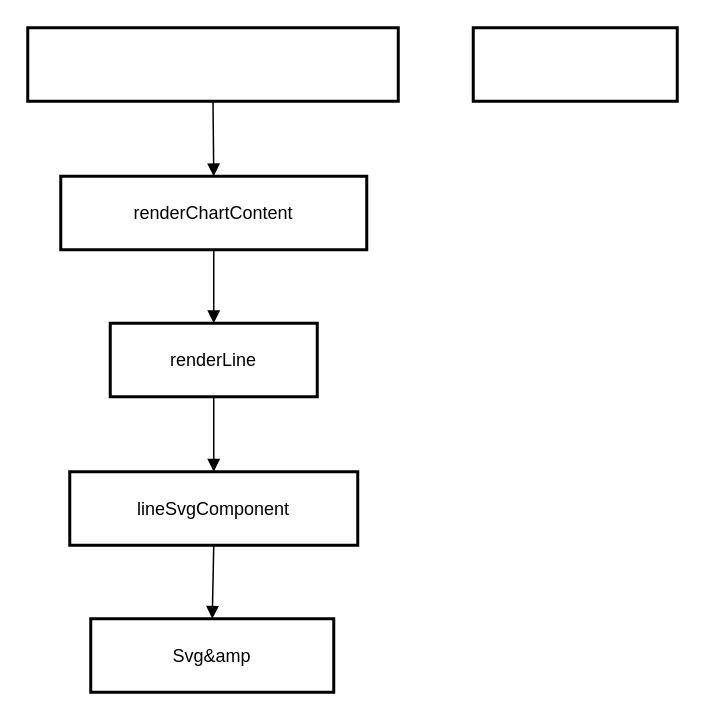
The diagram is 704 pixels wide and 719 high, and some of its shapes have lost their labels. The centre of each missing label's shape, as x and y in pixels:
BarAndLineChartsWrapper: the point at 212,64
DataPoints: the point at 574,64
